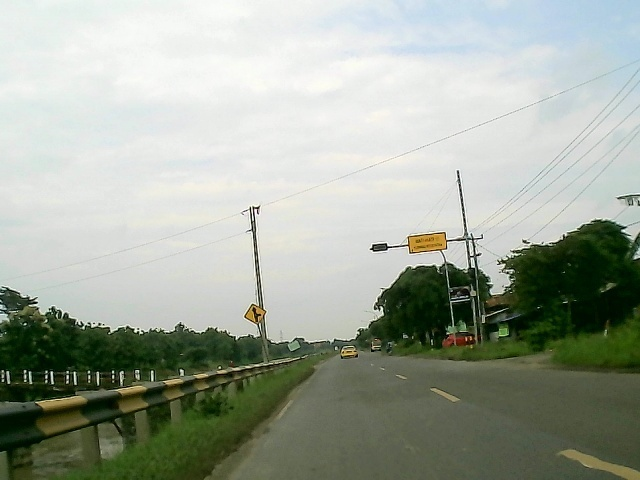Simpang kanan dengan prioritas: (241, 301, 269, 328)
